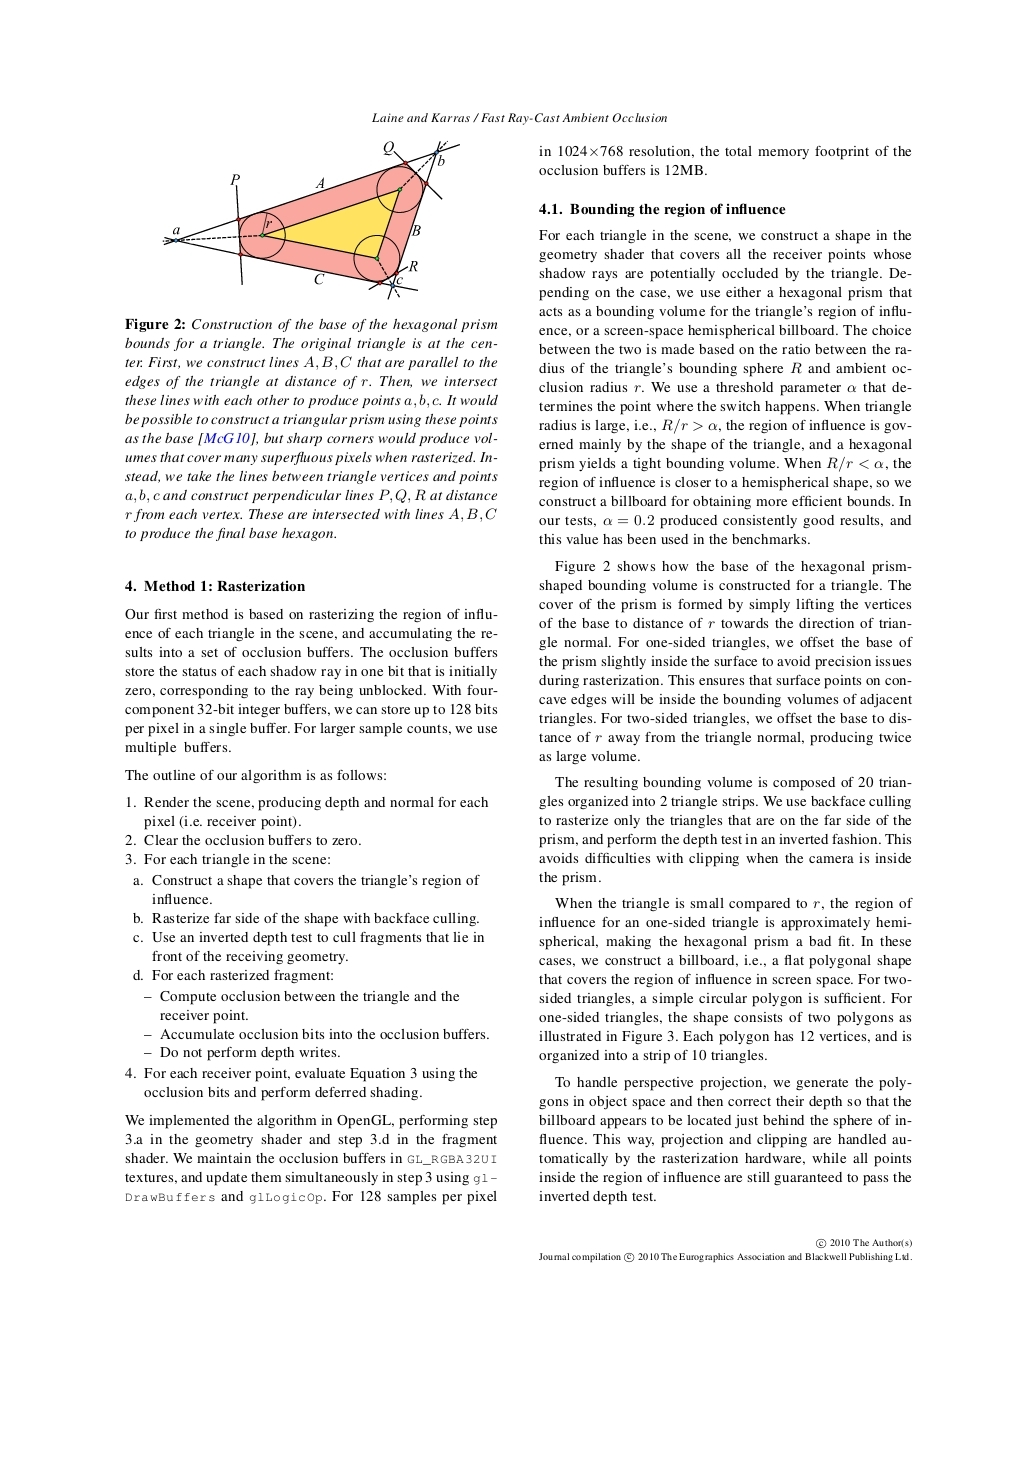figure: (162, 140, 459, 300)
